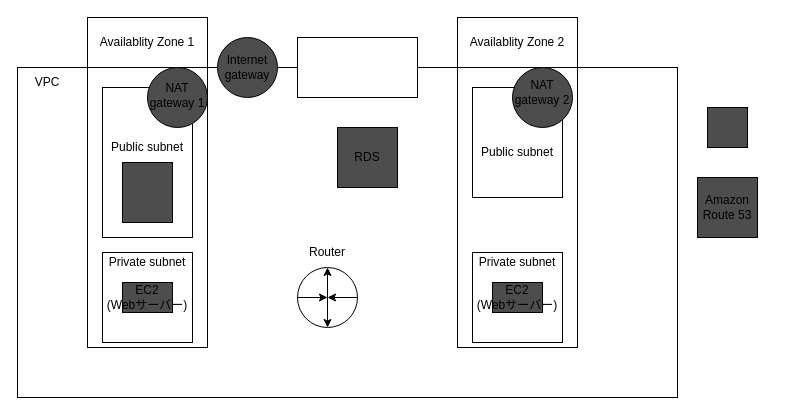
Some shapes in this 785 by 415 pixel diagram are drawn without their labels. The centre of each missing label's shape, as x and y in pixels:
Application Load Balancer: (x=357, y=67)
EC2 (踏み台サーバー): (x=147, y=192)
S3: (x=727, y=127)
